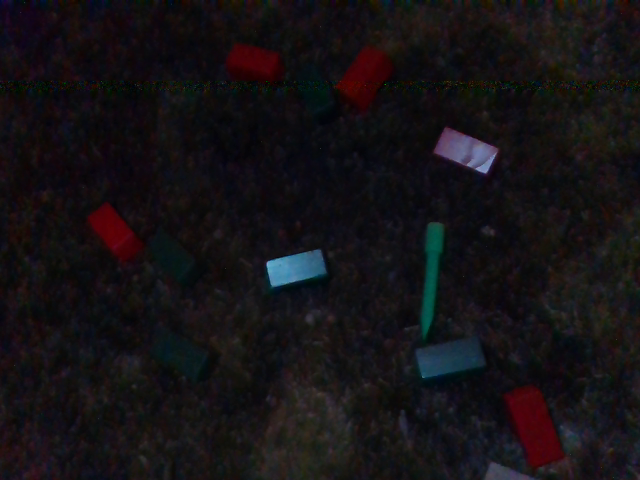Probe: (417, 214, 445, 340)
